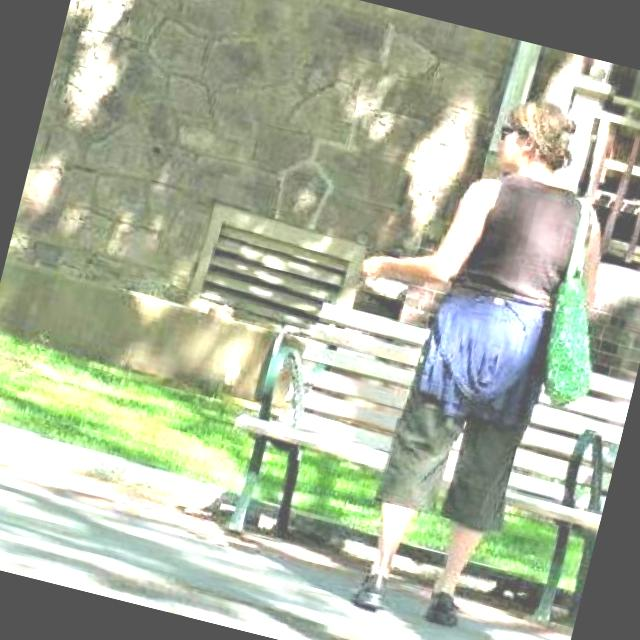Person: (275, 59, 640, 640)
